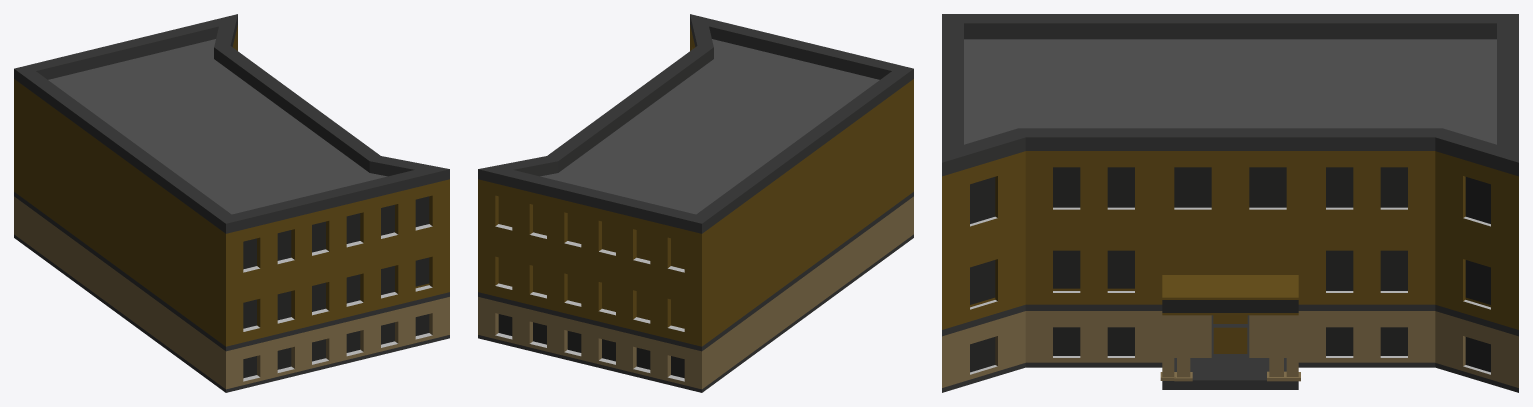
File: house-20.glb
3 views of the same model, side by side, from view 1: azimuth 30°, elevation 25°; view 2: azimuth 150°, elevation 25°; view 3: azimuth 270°, elevation 25° (orthographic). The views are drawn at different scales.
Bounding box in the file's own units: 3.54 × 2.55 × 5.79.
